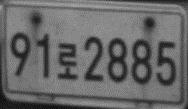1: (35, 31, 50, 80)
2: (82, 35, 104, 83)
5: (156, 39, 176, 86)
8: (131, 38, 153, 85), (106, 36, 128, 82)
9: (8, 30, 31, 77)
로: (56, 41, 78, 81)
